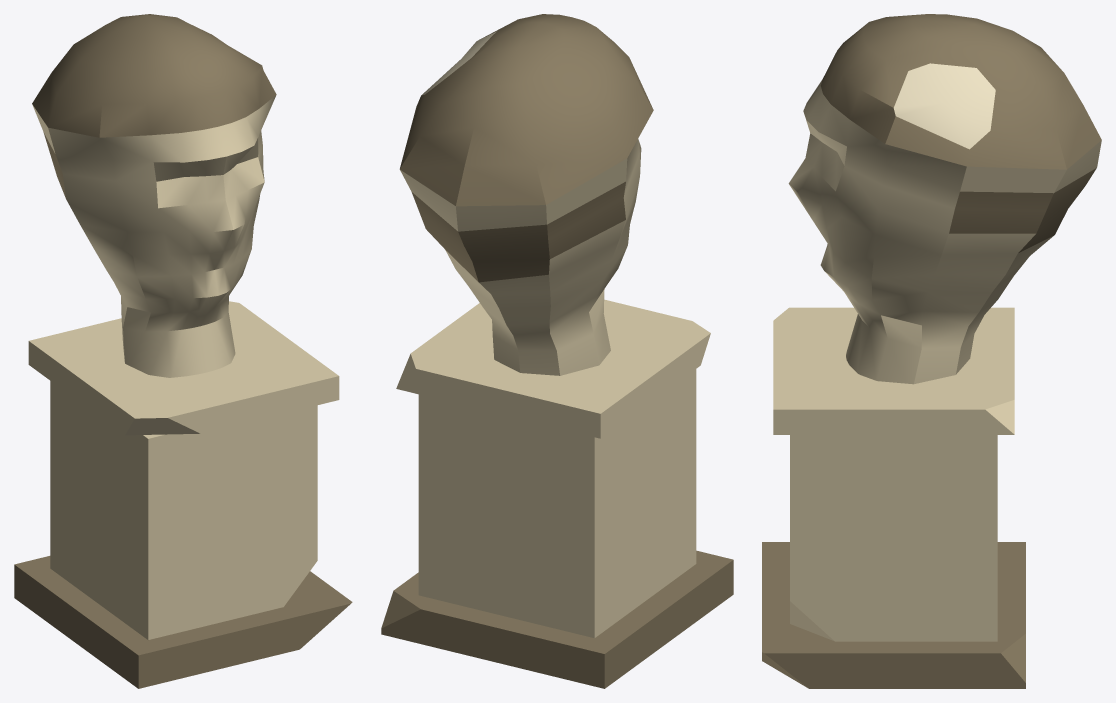
Rendered from statue-0.glb.
The picture shows the model from 3 angles, left to right: view 1: azimuth 30°, elevation 25°; view 2: azimuth 150°, elevation 25°; view 3: azimuth 270°, elevation 25°; orthographic projection. The views are drawn at different scales.
Parts seen in each view (by area): view 1: statue-0; view 2: statue-0; view 3: statue-0.
Boxes of the visible parts, bbox=[...] form: statue-0: bbox=[14, 14, 352, 688]; statue-0: bbox=[381, 14, 733, 688]; statue-0: bbox=[762, 14, 1101, 688].
Size of the model in its own units: 0.9595 by 2.45 by 1.24.
